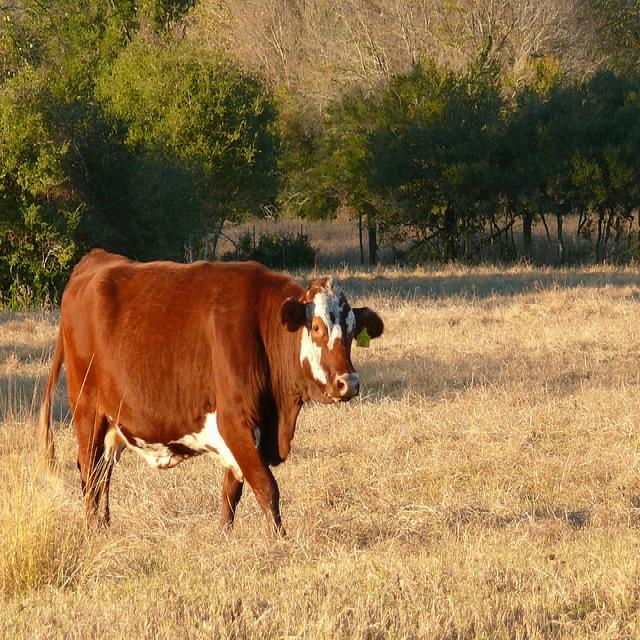cow: (37, 245, 383, 544)
